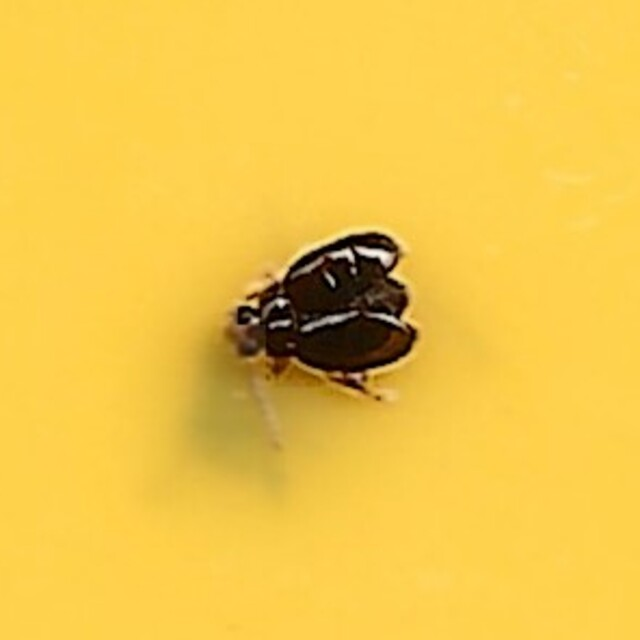Coleoptera: (216, 230, 424, 410)
